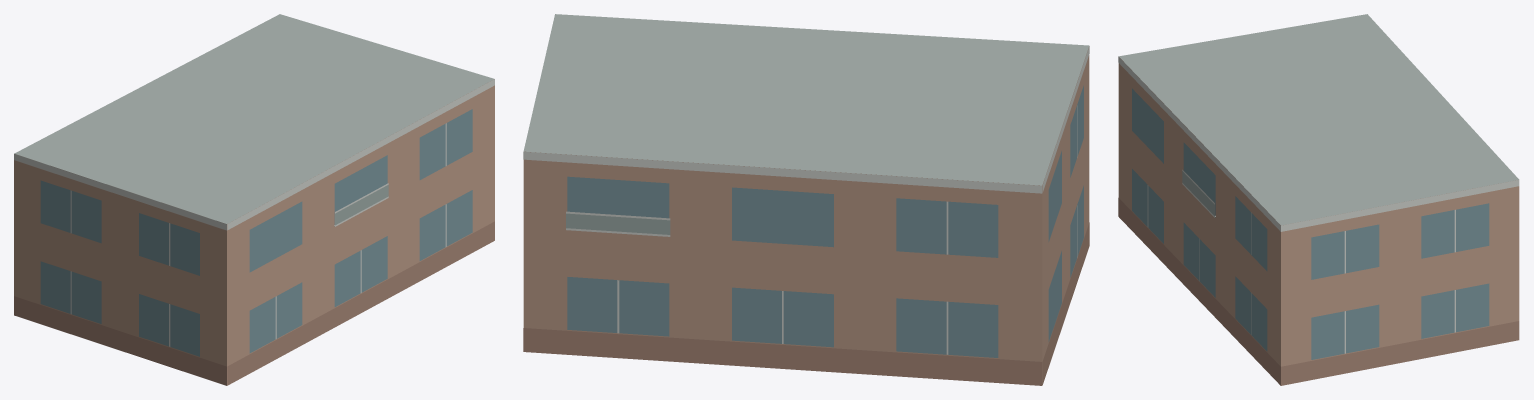
File: survey-upis-32905112.glb
3 views of the same model, side by side, from view 1: azimuth 30°, elevation 25°; view 2: azimuth 150°, elevation 25°; view 3: azimuth 270°, elevation 25° (orthographic). The views are drawn at different scales.
Visible parts, largest first — view 1: survey-upis-32905112.tmp; view 2: survey-upis-32905112.tmp; view 3: survey-upis-32905112.tmp.
Part boxes in pixels (x1=…): survey-upis-32905112.tmp: x1=14, y1=14, x2=494, y2=385; survey-upis-32905112.tmp: x1=523, y1=14, x2=1089, y2=385; survey-upis-32905112.tmp: x1=1118, y1=14, x2=1519, y2=385.
Bounding box in the file's own units: 17.26 × 6.1 × 13.83.
